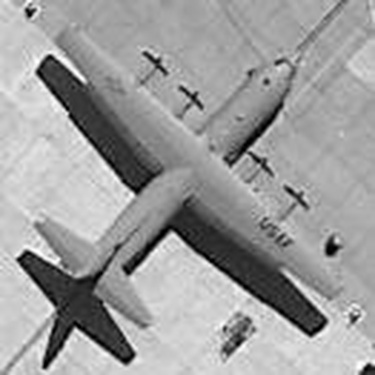airplane: (21, 8, 362, 362)
